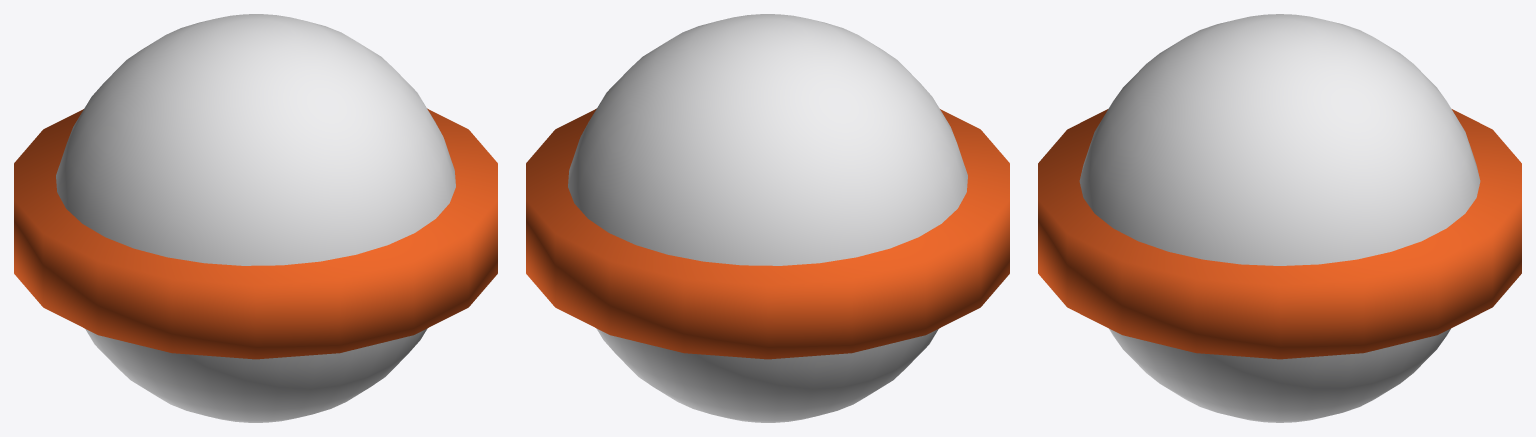
3 renders of one model, left to right at view 1: azimuth 30°, elevation 25°; view 2: azimuth 150°, elevation 25°; view 3: azimuth 270°, elevation 25°, orthographic.
Visible parts, largest first — view 1: Sphere001, Cylinder001; view 2: Sphere001, Cylinder001; view 3: Sphere001, Cylinder001.
Boxes of the visible parts, x1,y1,x2,y2 form: Sphere001: (56, 14, 455, 422); Cylinder001: (14, 108, 497, 359); Sphere001: (568, 14, 967, 422); Cylinder001: (526, 108, 1009, 359); Sphere001: (1079, 14, 1480, 422); Cylinder001: (1038, 109, 1521, 359).
Size of the model in its own units: 12 by 10 by 11.82.
